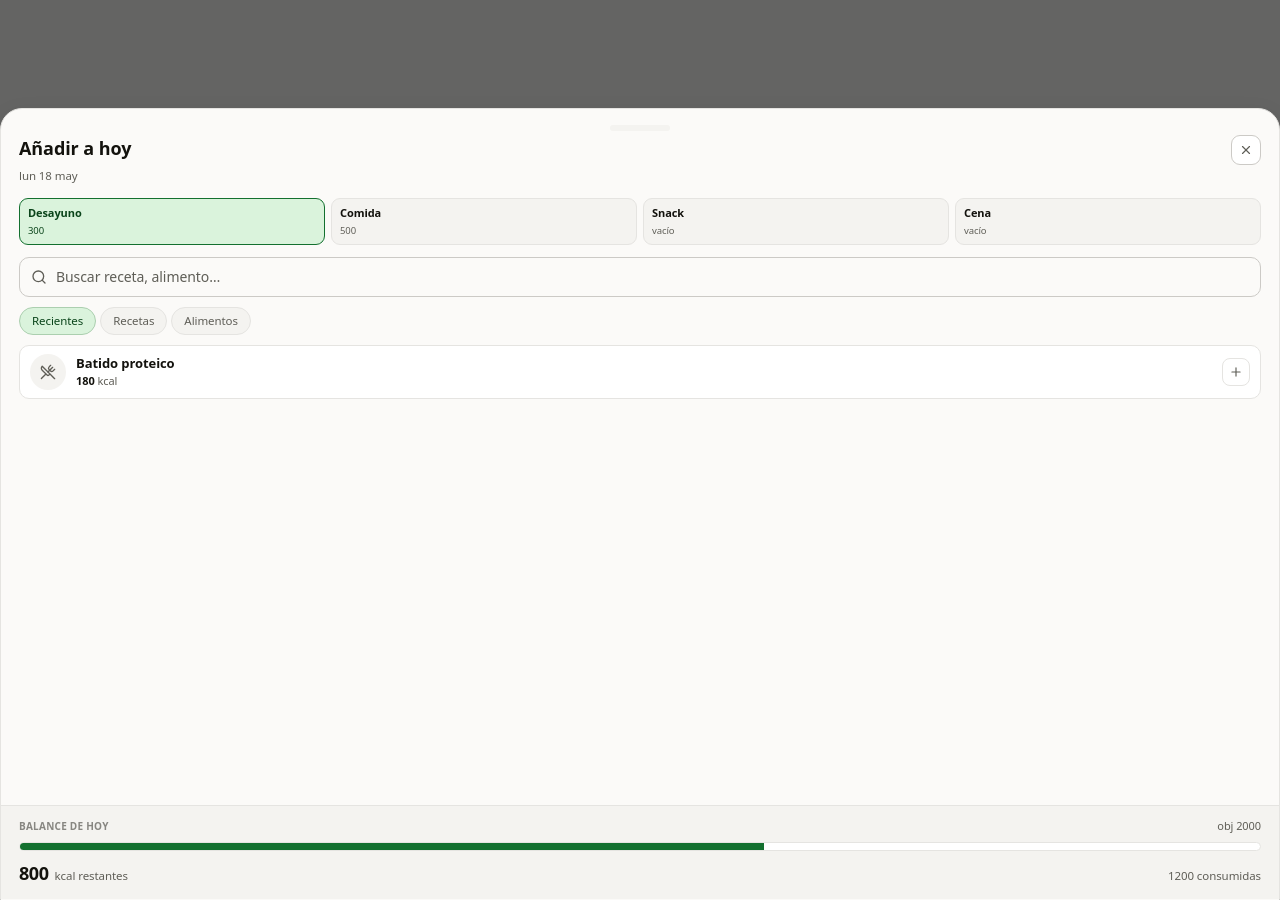
Test: AddToDaySheet › switching to Alimentos shows ingredient search results
The image size is (1280, 900).
Press the mouse on the tab "Alimentos" at (211, 321), box left=171, top=307, right=251, bottom=335
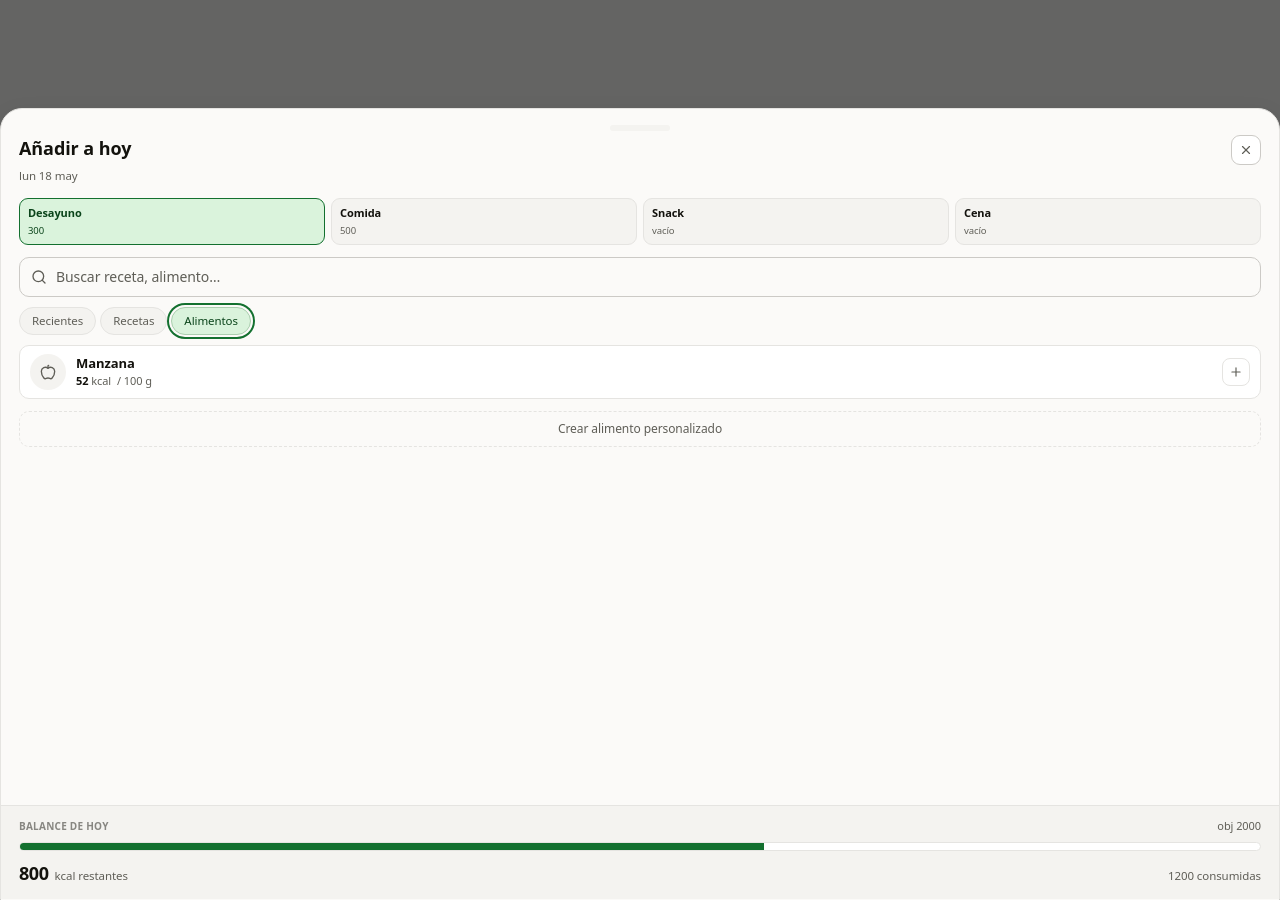
Result: the text "Manzana" is shown at left=76, top=354, right=135, bottom=372
